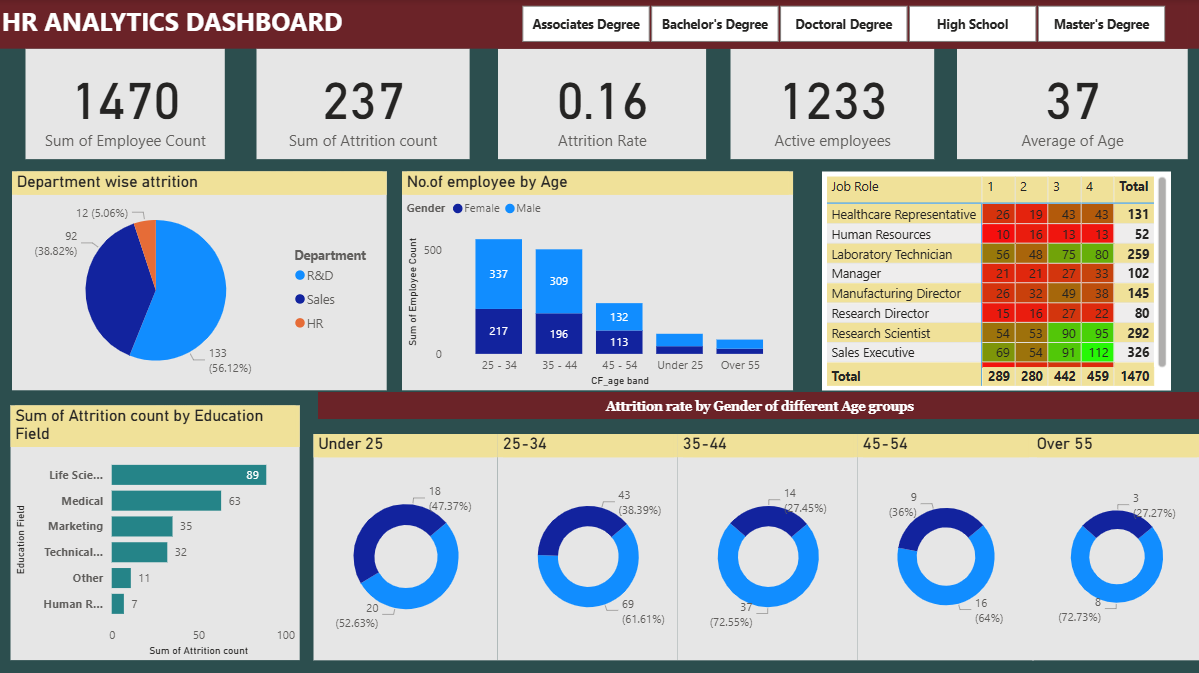

The dashboard page shown, as its layout file describes it:
{"tool":"powerbi","page":{"name":"Page 1","canvas":[1280,720],"ordinal":0},"visuals":[{"type":"card","fields":{"Values":["Sum(HR data.Employee Count)"]},"box":[30.2,52.5,211.4,117.6],"z":0},{"type":"card","fields":{"Values":["Sum(HR data.Attrition count)"]},"box":[275,52.5,225.7,117.6],"z":1000},{"type":"card","fields":{"Values":["HR data.Attrition Rate"]},"box":[530.9,52.5,220.9,117.6],"z":2000},{"type":"card","fields":{"Values":["HR data.Active employees"]},"box":[777.2,52.5,216.2,117.6],"z":3000},{"type":"card","fields":{"Values":["Avg(HR data.Age)"]},"box":[1017.2,52.5,244.8,117.6],"z":4000},{"type":"pieChart","title":"Department wise attrition","fields":{"Category":["HR data.Department"],"Y":["Sum(HR data.Attrition count)"]},"box":[15.9,182.8,397.4,232.1],"z":5000},{"type":"columnChart","title":"No.of employee by Age","fields":{"Category":["HR data.CF_age band"],"Y":["Sum(HR data.Employee Count)"],"Series":["HR data.Gender"]},"box":[429.1,182.8,414.8,232.1],"z":6000},{"type":"pivotTable","fields":{"Rows":["HR data.Job Role"],"Columns":["HR data.Job Satisfaction"],"Values":["Sum(HR data.Employee Count)"]},"box":[874.2,182.8,370.3,232.1],"z":7000},{"type":"barChart","fields":{"Category":["HR data.Education Field"],"Y":["Sum(HR data.Attrition count)"]},"box":[14.3,430.7,306.8,270.2],"z":8000},{"type":"donutChart","title":"Under 25","fields":{"Category":["HR data.Gender"],"Y":["Sum(HR data.Attrition count)"],"Series":["HR data.CF_age band"]},"box":[335.4,460.9,195.5,240],"z":9000},{"type":"textbox","box":[340.1,416.4,937,28.6],"z":10000},{"type":"donutChart","title":"25-34","fields":{"Category":["HR data.Gender"],"Y":["Sum(HR data.Attrition count)"],"Series":["HR data.CF_age band"]},"box":[530.9,460.9,190.7,240],"z":11000},{"type":"donutChart","title":"35-44","fields":{"Series":["HR data.CF_age band"],"Y":["Sum(HR data.Attrition count)"],"Category":["HR data.Gender"]},"box":[721.6,460.9,190.7,240],"z":12000},{"type":"donutChart","title":"45-54","fields":{"Category":["HR data.Gender"],"Series":["HR data.CF_age band"],"Y":["Sum(HR data.Attrition count)"]},"box":[912.3,460.9,186,240],"z":13000},{"type":"donutChart","title":"Over 55","fields":{"Series":["HR data.CF_age band"],"Y":["Sum(HR data.Attrition count)"],"Category":["HR data.Gender"]},"box":[1098.3,460.9,179.6,240],"z":14000},{"type":"textbox","box":[0,0,1277.9,52.5],"z":15000},{"type":"slicer","fields":{"Values":["HR data.Education"]},"box":[530.9,0,731.1,52.5],"z":16000}]}

Visuals, with their boxes in screenshot pixels (x1, y1, x2, y2), scaled from the page's 1280x720 canvas onto the 1199x673 screenshot:
card - Sum(HR data.Employee Count): [28, 49, 226, 159]
card - Sum(HR data.Attrition count): [258, 49, 469, 159]
card - HR data.Attrition Rate: [497, 49, 704, 159]
card - HR data.Active employees: [728, 49, 931, 159]
card - Avg(HR data.Age): [953, 49, 1182, 159]
"Department wise attrition" pieChart: [15, 171, 387, 388]
"No.of employee by Age" columnChart: [402, 171, 790, 388]
pivotTable - HR data.Job Role x HR data.Job Satisfaction: [819, 171, 1166, 388]
barChart - HR data.Education Field x Sum(HR data.Attrition count): [13, 403, 301, 655]
"Under 25" donutChart: [314, 431, 497, 655]
textbox: [319, 389, 1196, 416]
"25-34" donutChart: [497, 431, 676, 655]
"35-44" donutChart: [676, 431, 855, 655]
"45-54" donutChart: [855, 431, 1029, 655]
"Over 55" donutChart: [1029, 431, 1197, 655]
textbox: [0, 0, 1197, 49]
slicer - HR data.Education: [497, 0, 1182, 49]
